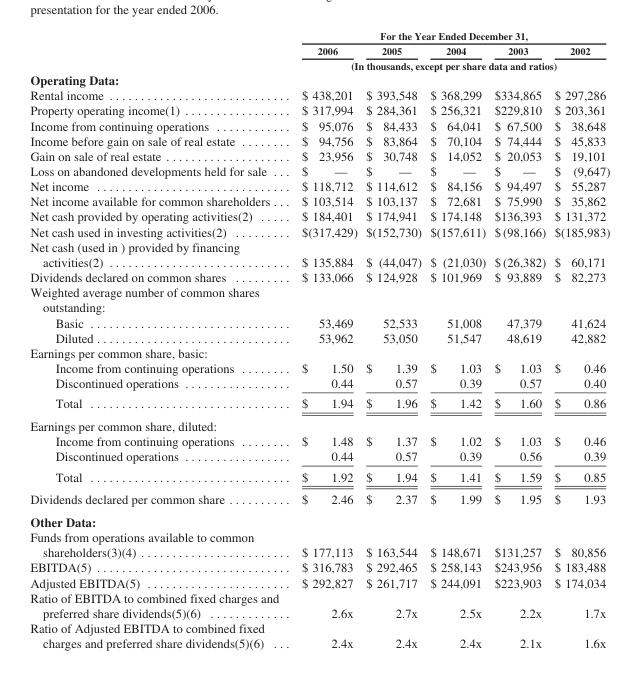table: (29, 29, 609, 649)
table column: (29, 29, 289, 649), (289, 29, 361, 649), (361, 29, 425, 649), (425, 29, 489, 649), (489, 29, 549, 649), (549, 29, 609, 649)
table column header: (29, 29, 609, 71)
table projected row header: (29, 284, 609, 314), (29, 414, 609, 433), (29, 510, 609, 529), (29, 71, 609, 87), (29, 344, 609, 360)
table row: (29, 238, 609, 269), (29, 589, 609, 620), (29, 284, 609, 314), (29, 529, 609, 559), (29, 620, 609, 649), (29, 487, 609, 510), (29, 392, 609, 414), (29, 466, 609, 487), (29, 414, 609, 433), (29, 510, 609, 529), (29, 448, 609, 466), (29, 375, 609, 392), (29, 71, 609, 87), (29, 147, 609, 163), (29, 344, 609, 360), (29, 42, 609, 57), (29, 87, 609, 102), (29, 102, 609, 117), (29, 117, 609, 132), (29, 132, 609, 147), (29, 163, 609, 178), (29, 178, 609, 193), (29, 193, 609, 208), (29, 208, 609, 223), (29, 223, 609, 238), (29, 269, 609, 284), (29, 314, 609, 329), (29, 329, 609, 344), (29, 360, 609, 375), (29, 433, 609, 448), (29, 559, 609, 574), (29, 574, 609, 589), (29, 57, 609, 71), (29, 29, 609, 42)
table spanning cell: (289, 57, 609, 71), (289, 29, 609, 42)
